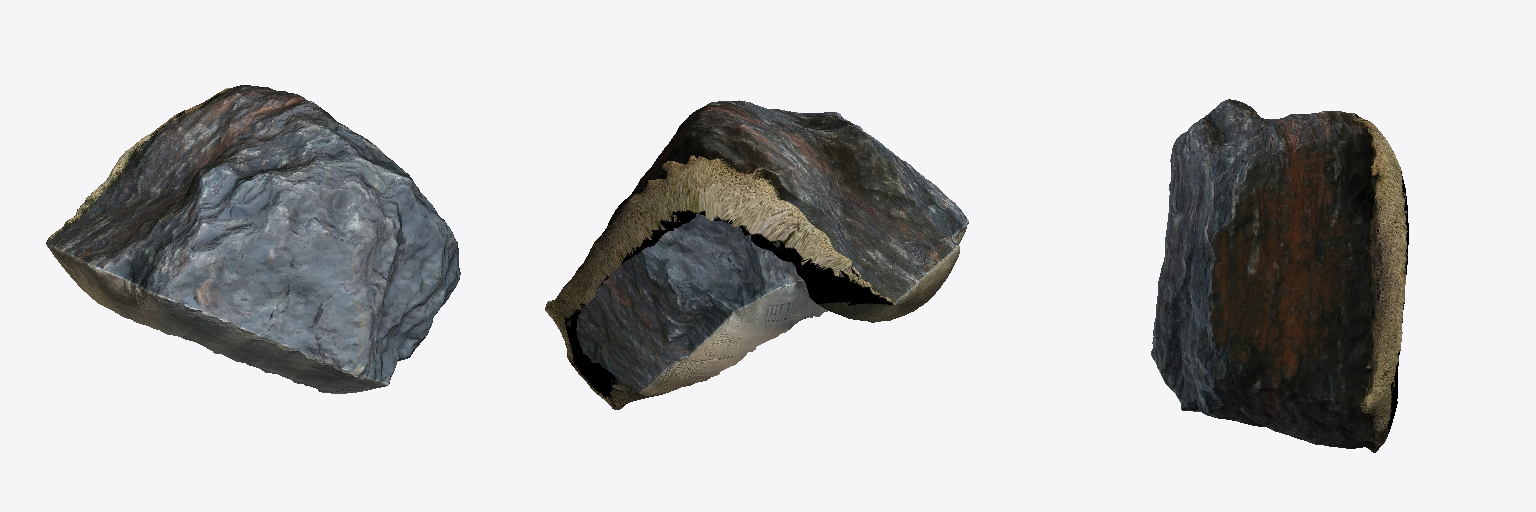
3 views of the same model, side by side, from view 1: azimuth 30°, elevation 25°; view 2: azimuth 150°, elevation 25°; view 3: azimuth 270°, elevation 25° (orthographic).
Size of the model in its own units: 4.17 by 3.24 by 2.61.
Materials: 1 (1 with a texture image).